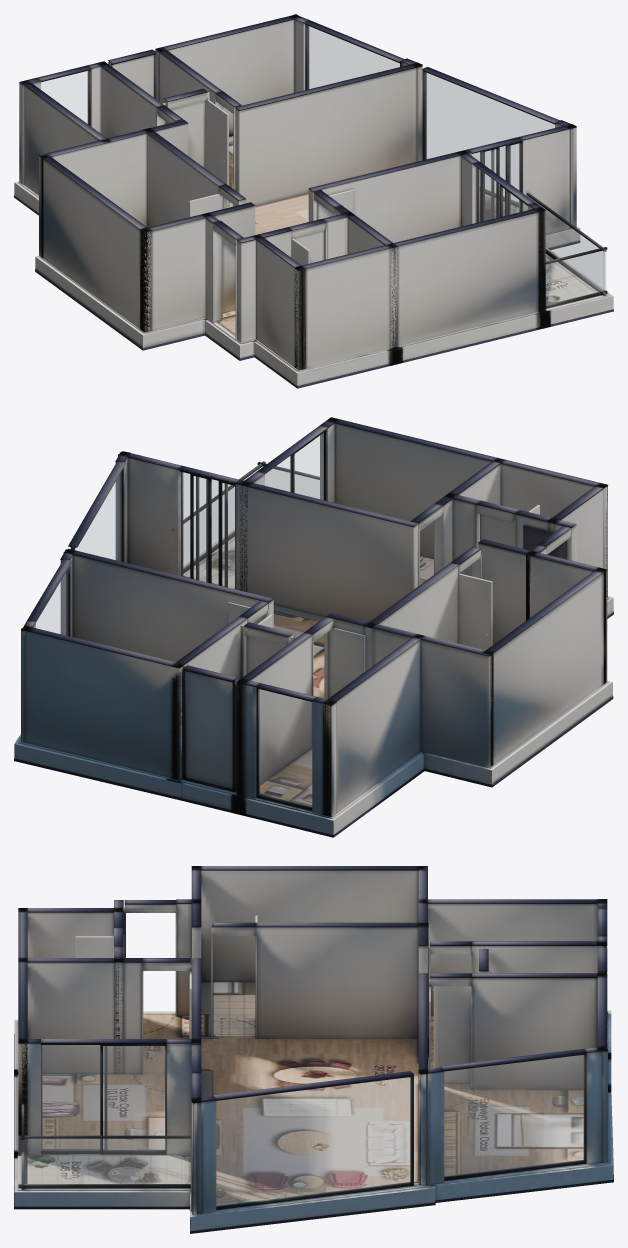
3 renders of one model, top to bottom at view 1: azimuth 30°, elevation 25°; view 2: azimuth 150°, elevation 25°; view 3: azimuth 270°, elevation 25°, orthographic. The views are drawn at different scales.
Parts seen in each view (by area): view 1: plan, glass1_m, glass3_m, railg1_m, railg0_m, glass2_m, glass4_m, glass0_m; view 2: plan, glass4_m, glass5_m, glass2_m, glass0_m, glass1_m, railg0_m, glass3_m, railg1_m; view 3: plan, glass1_m, glass3_m, glass0_m, railg0_m.
Part boxes in pixels (x1,y1,x2,y2): plan: (14,14,613,388); glass1_m: (426,73,554,189); glass3_m: (307,26,399,89); railg1_m: (546,251,606,304); railg0_m: (528,196,604,292); glass2_m: (472,143,519,220); glass4_m: (41,71,88,123); glass0_m: (476,167,527,222); plan: (14,417,613,837); glass4_m: (259,689,311,807); glass5_m: (186,672,231,787); glass2_m: (180,472,234,588); glass0_m: (265,433,323,499); glass1_m: (75,472,121,560); railg0_m: (184,467,261,568); glass3_m: (36,570,67,635); railg1_m: (260,466,319,498); plan: (14,866,613,1233); glass1_m: (216,1077,410,1206); glass3_m: (444,1055,584,1176); glass0_m: (41,1045,164,1150); railg0_m: (18,1139,190,1184).
Bounding box in the file's own units: 10.36 × 2.62 × 10.96.
Materials: 2 (1 with a texture image).
